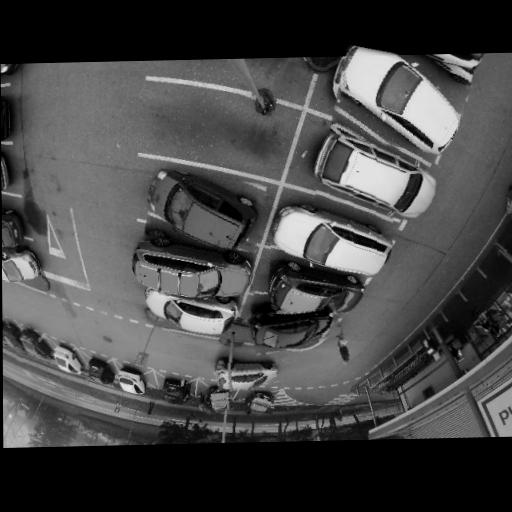busy: (333, 48, 471, 154), (315, 127, 438, 219), (146, 169, 265, 251), (270, 205, 393, 279), (134, 240, 256, 305), (263, 265, 365, 318), (249, 300, 340, 353), (145, 290, 240, 333), (214, 356, 277, 391), (3, 245, 41, 285), (48, 343, 87, 377), (15, 329, 52, 363), (2, 209, 23, 256), (157, 378, 191, 407), (116, 367, 148, 397), (202, 384, 233, 414), (243, 388, 277, 414), (86, 358, 114, 385), (2, 318, 23, 352)
free: (184, 88, 275, 164)
